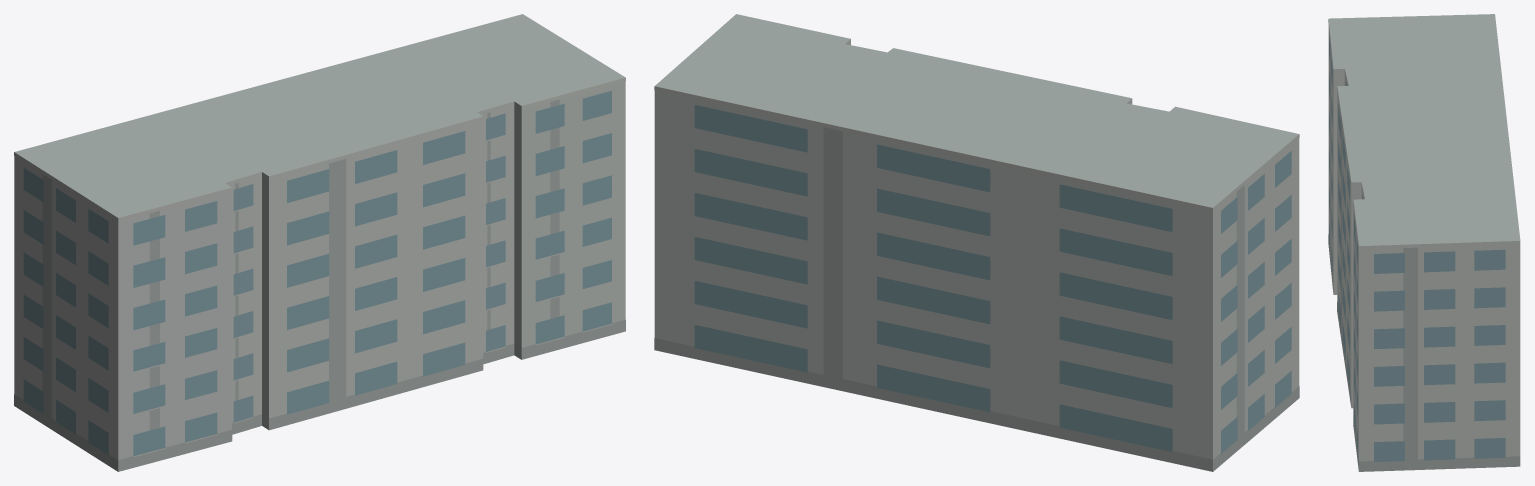
The model's file is survey-upis-32872806.glb.
3 views of the same model, side by side, from view 1: azimuth 30°, elevation 25°; view 2: azimuth 150°, elevation 25°; view 3: azimuth 270°, elevation 25° (orthographic). The views are drawn at different scales.
Parts seen in each view (by area): view 1: survey-upis-32872806.tmp; view 2: survey-upis-32872806.tmp; view 3: survey-upis-32872806.tmp.
Part boxes in pixels (left/top/right/bottom): survey-upis-32872806.tmp: left=14, top=14, right=625, bottom=471; survey-upis-32872806.tmp: left=654, top=14, right=1299, bottom=471; survey-upis-32872806.tmp: left=1328, top=14, right=1520, bottom=471.
Size of the model in its own units: 35.74 by 16.2 by 12.49.
